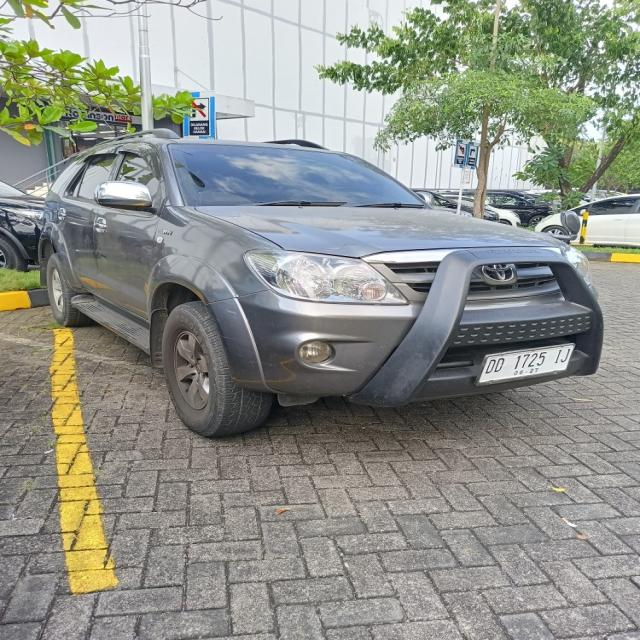plates: (470, 339, 580, 386)
